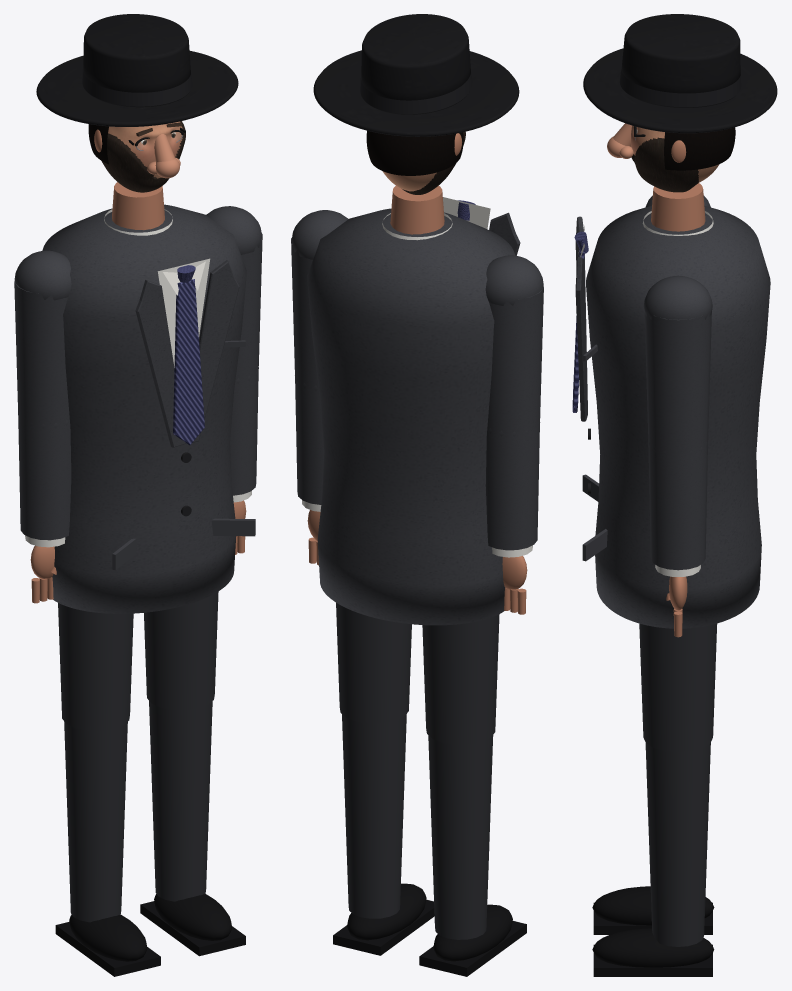
Rendered from Visitor.glb.
3 views of the same model, side by side, from view 1: azimuth 30°, elevation 25°; view 2: azimuth 150°, elevation 25°; view 3: azimuth 270°, elevation 25° (orthographic).
Parts seen in each view (by area): view 1: J_spine, J_hat, J_kneeL, J_kneeR, J_shR, J_thighR, J_thighL, J_elR, J_head, J_ankleR, J_ankleL, J_shL (+3 smaller); view 2: J_spine, J_hat, J_kneeR, J_kneeL, J_shR, J_thighR, J_thighL, J_elR, J_head, J_shL, J_ankleR, J_ankleL (+3 smaller); view 3: J_spine, J_hat, J_kneeL, J_shL, J_thighL, J_elL, J_head, J_ankleL, J_ankleR, J_neck, J_wrL.
Boxes of the visible parts, box(x1,y1,x2,y2) form: J_spine: box(42, 204, 255, 613); J_hat: box(36, 14, 238, 126); J_kneeL: box(149, 701, 212, 901); J_kneeR: box(64, 721, 127, 922); J_shR: box(14, 250, 71, 425); J_thighR: box(58, 603, 133, 730); J_thighL: box(144, 591, 218, 710); J_elR: box(18, 414, 71, 547); J_head: box(88, 121, 185, 192); J_ankleR: box(55, 914, 160, 976); J_ankleL: box(140, 894, 245, 956); J_shL: box(206, 206, 262, 380); J_spine: box(307, 197, 520, 625); J_hat: box(313, 14, 519, 136); J_kneeR: box(428, 735, 493, 939); J_kneeL: box(342, 714, 406, 918); J_shR: box(485, 255, 543, 433); J_thighR: box(422, 614, 499, 744); J_thighL: box(336, 602, 411, 723); J_elR: box(485, 422, 540, 557); J_head: box(366, 130, 465, 194); J_shL: box(291, 210, 348, 388); J_ankleR: box(419, 904, 526, 976); J_ankleL: box(333, 883, 434, 955); J_spine: box(572, 205, 770, 628); J_hat: box(583, 14, 777, 133); J_kneeL: box(645, 742, 710, 946); J_shL: box(643, 275, 712, 453); J_thighL: box(639, 623, 717, 752); J_elL: box(648, 442, 707, 576); J_head: box(607, 123, 735, 192); J_ankleL: box(592, 928, 714, 976); J_ankleR: box(592, 886, 714, 934); J_neck: box(651, 183, 705, 231); J_wrL: box(669, 576, 687, 610).
Bounding box in the file's own units: 0.566 × 2.02 × 0.4117.
Materials: 22 (6 with a texture image).
